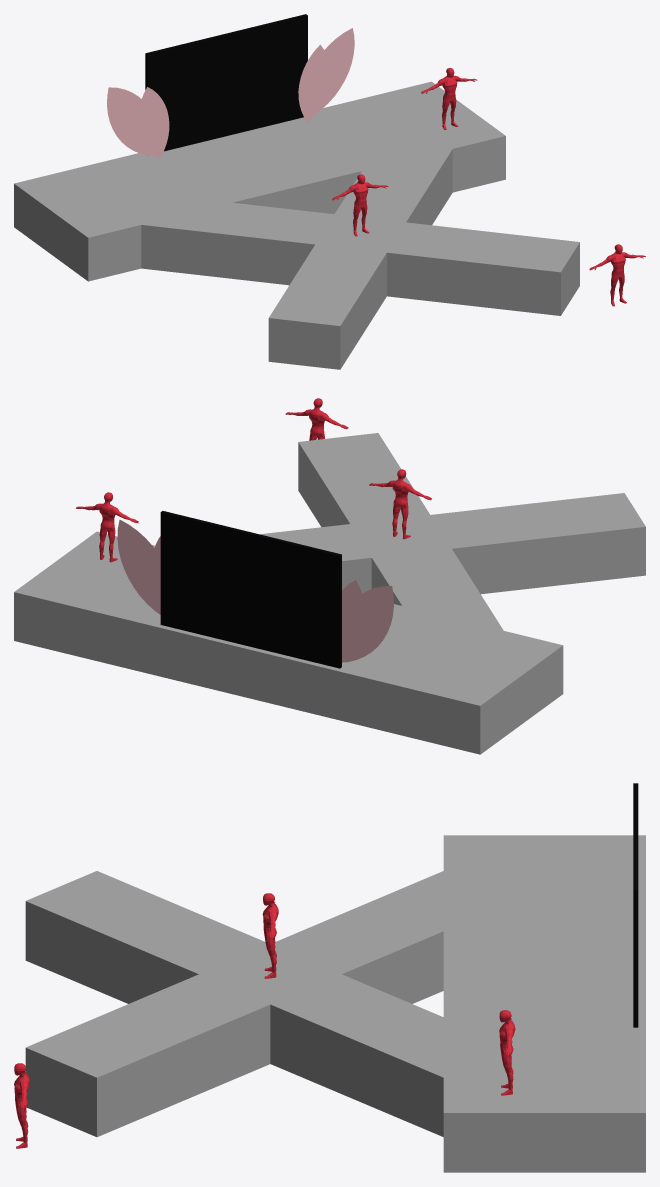
3 renders of one model, top to bottom at view 1: azimuth 30°, elevation 25°; view 2: azimuth 150°, elevation 25°; view 3: azimuth 270°, elevation 25°, orthographic. The views are drawn at different scales.
Parts seen in each view (by area): view 1: Sàn, Catwalk2, Catwalk1, LED, Cánh hoa sen thấp (×2), Cánh hoa sen, Cánh hoa sen.001, 1.002, 1, 1.001; view 2: Sàn, Catwalk1, LED, Catwalk2, Cánh hoa sen, Cánh hoa sen.001, 1.002, 1.001, 1; view 3: Sàn, Catwalk2, Catwalk1, LED, 1, 1.001, 1.002.
Part boxes in pixels (x1,y1,x2,y2): Sàn: (14, 81, 505, 281); Catwalk2: (141, 195, 579, 315); Catwalk1: (268, 141, 452, 369); LED: (145, 14, 307, 151); Cánh hoa sen thấp (×2): (138, 44, 329, 158); Cánh hoa sen: (107, 87, 155, 156); Cánh hoa sen.001: (304, 28, 354, 119); 1.002: (332, 174, 388, 236); 1: (589, 244, 645, 306); 1.001: (421, 68, 477, 129); Sàn: (14, 531, 563, 754); Catwalk1: (260, 493, 645, 594); LED: (160, 511, 341, 668); Catwalk2: (298, 433, 503, 630); Cánh hoa sen: (342, 586, 393, 662); Cánh hoa sen.001: (117, 519, 160, 614); 1.002: (369, 469, 431, 539); 1.001: (76, 492, 138, 562); 1: (285, 398, 348, 440); Sàn: (443, 835, 645, 1172); Catwalk2: (25, 871, 514, 1136); Catwalk1: (25, 871, 500, 1136); LED: (633, 783, 638, 1027); 1: (14, 1063, 29, 1148); 1.001: (499, 1010, 515, 1095); 1.002: (262, 893, 278, 978).
Size of what is drawn, in the model's own units: 13 by 4.3 by 12.5.
